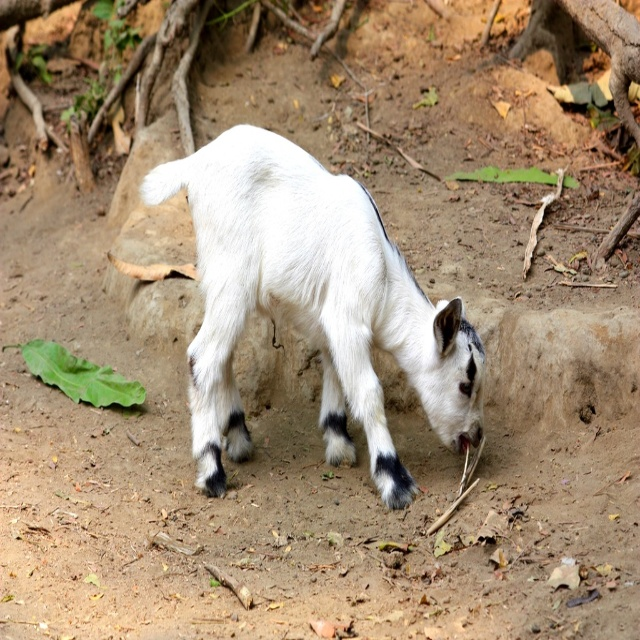Goat: (134, 123, 485, 515)
